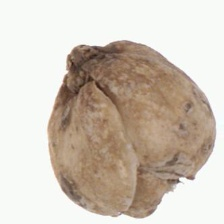L1: (120, 165, 194, 217), (59, 42, 110, 93)
L2: (46, 39, 217, 219)
